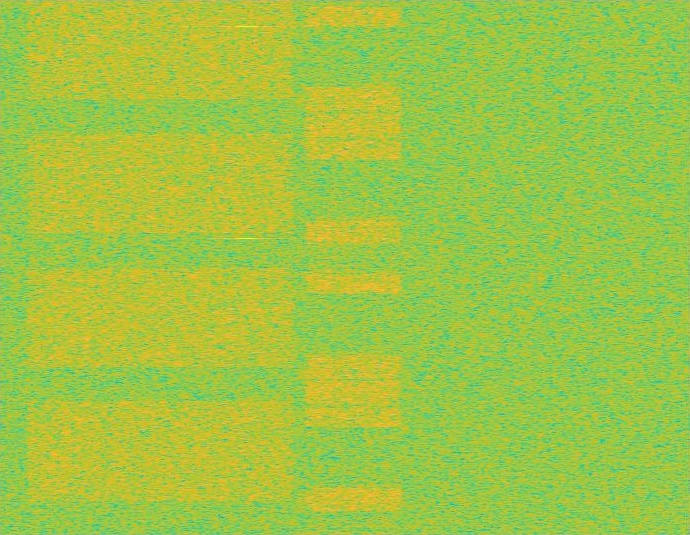5G: (23, 0, 299, 534)
LTE: (301, 0, 405, 534)
Radar: (240, 0, 253, 534)
